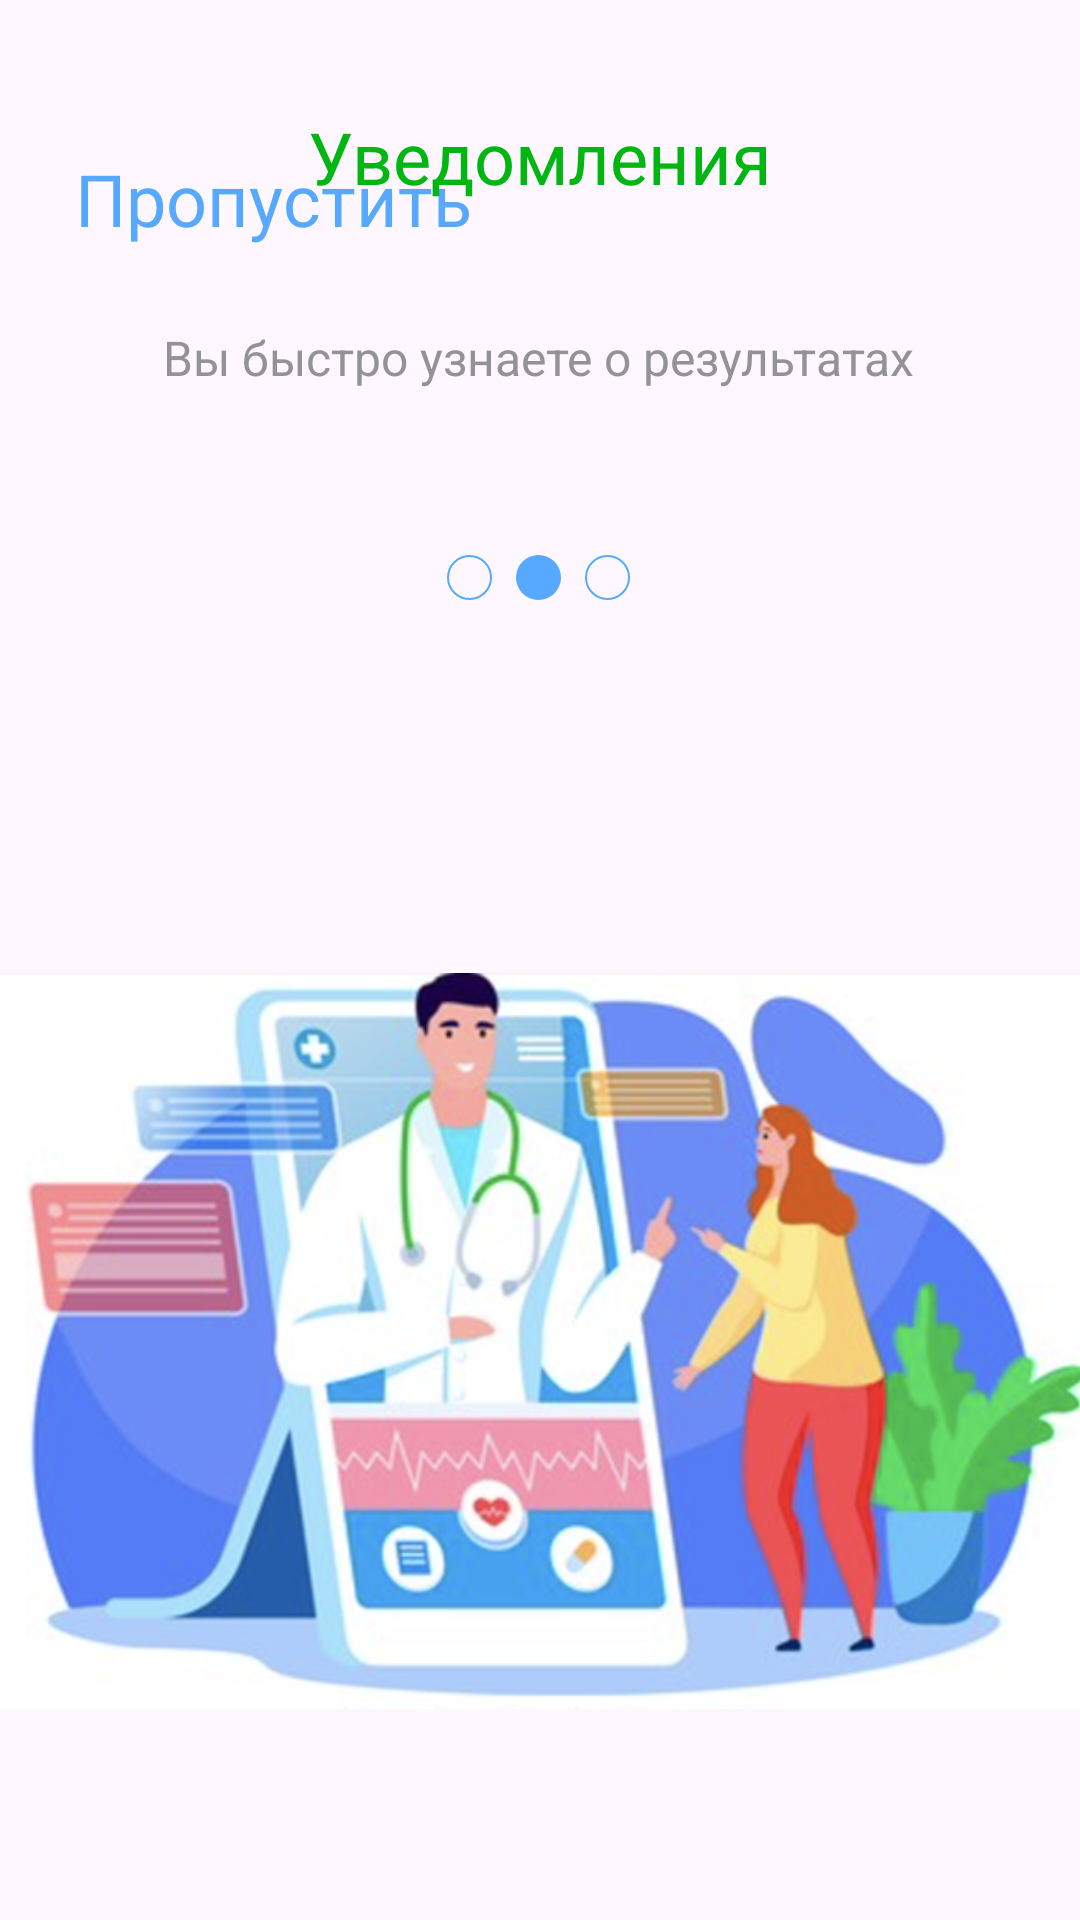

Icons on this 1080px×1920px Android screen, each with its box as (x1, y1, x2, y2):
dot: (447, 555, 492, 600), (516, 555, 561, 600), (585, 555, 630, 600)
